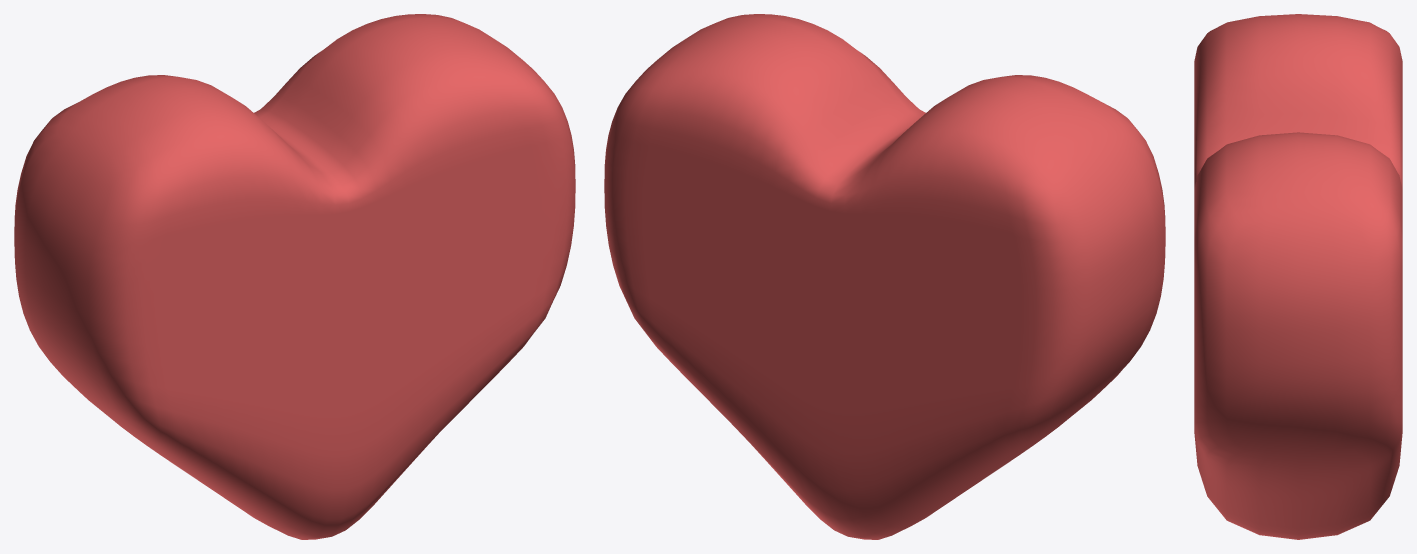
Rendered from Heart.fbx.
The picture shows the model from 3 angles, left to right: view 1: azimuth 30°, elevation 25°; view 2: azimuth 150°, elevation 25°; view 3: azimuth 270°, elevation 25°; orthographic projection. The views are drawn at different scales.
Parts seen in each view (by area): view 1: pCube1; view 2: pCube1; view 3: pCube1.
Boxes of the visible parts, x1,y1,x2,y2 form: pCube1: (14,14,575,539); pCube1: (604,14,1165,539); pCube1: (1194,14,1402,539).
Bounding box in the file's own units: 10.49 × 9.33 × 3.9.
